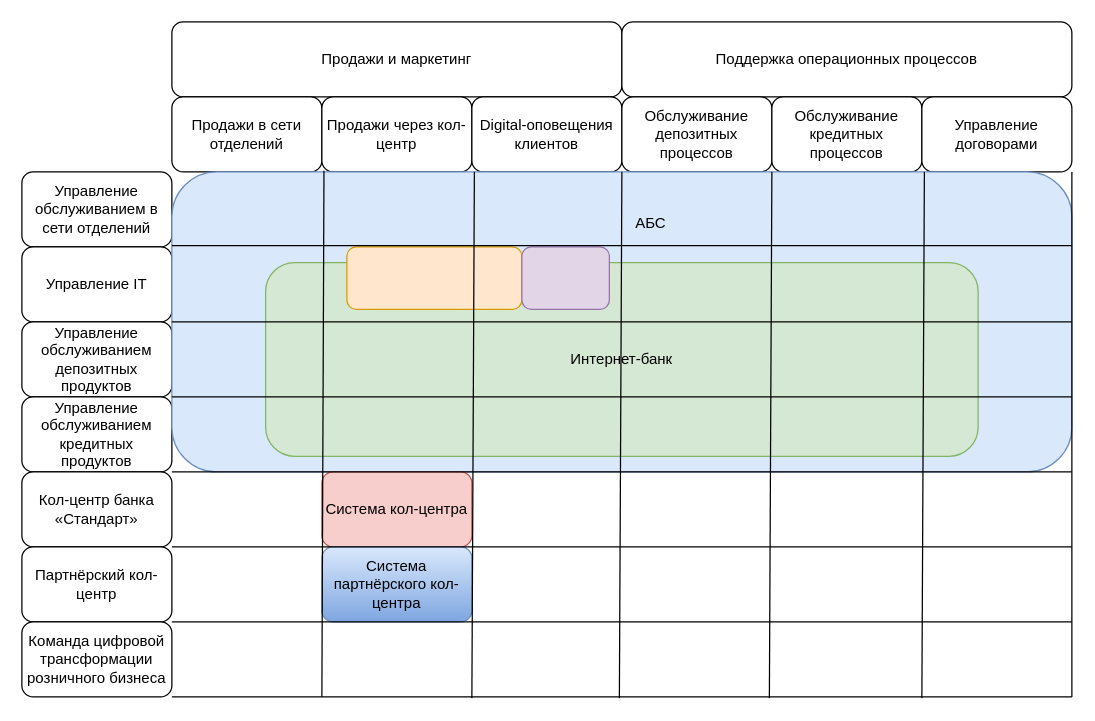
This 1095x721 diagram has some shape labels left out. Here are the shapes that lost their labels. From the top down, the centre of each, then its label:
point (434, 277): СМС-шлюз телеком-оператора
point (565, 277): Телеком-оператор
